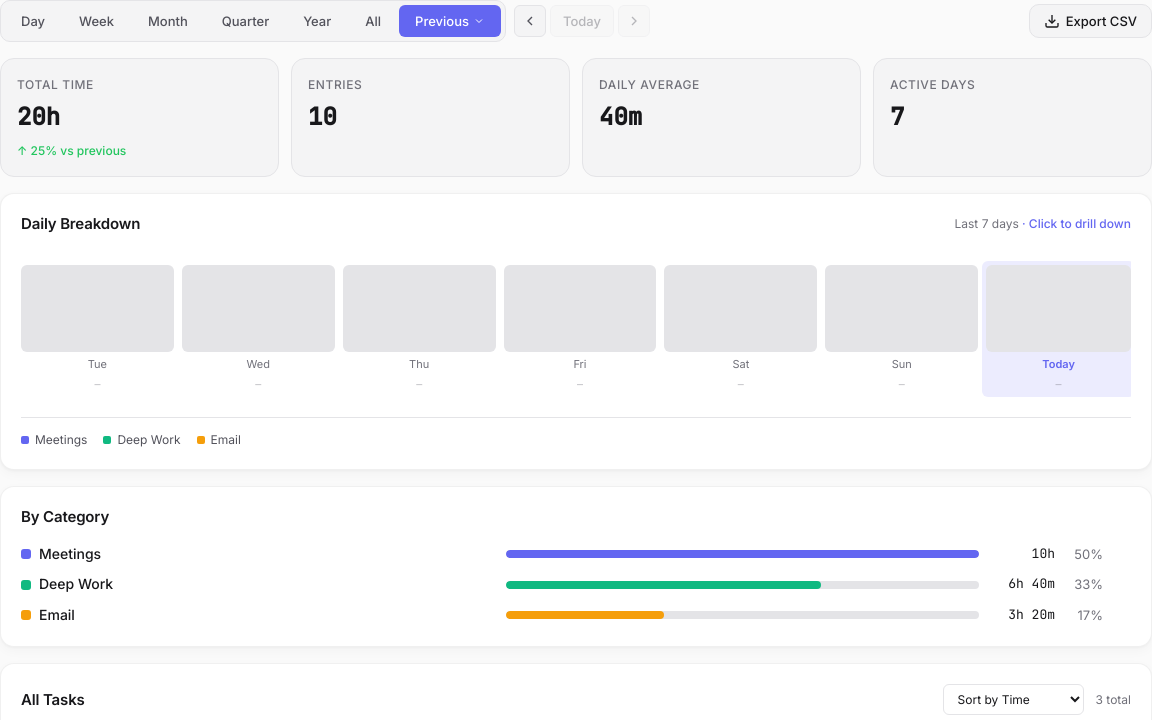
Test: Analytics › shows monthly breakdown for year view
This screenshot has width=1164, height=720.
Check: the text "Total Time" is shown, box [17, 77, 94, 92]
Click the button "Year".
click(317, 21)  # box [287, 5, 347, 37]
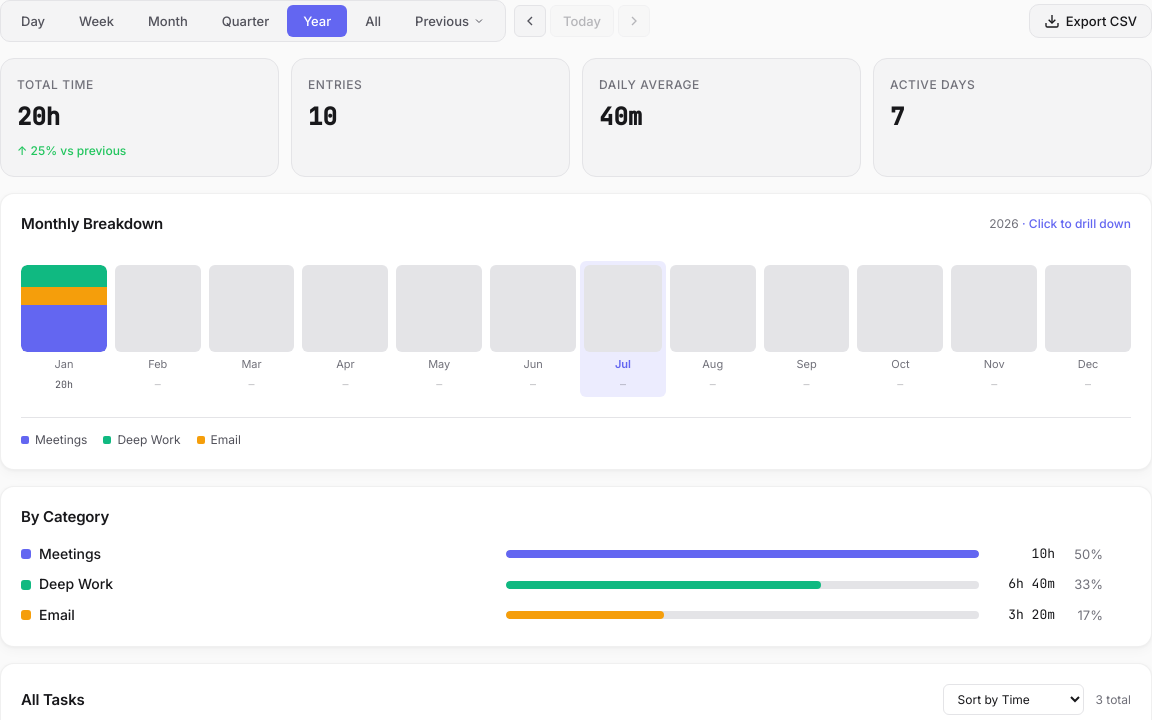
Check: the text "2026 · Click to drill down" is shown, box [989, 214, 1131, 233]
Check: the heading "Monthly Breakdown" is shown, box [21, 214, 163, 233]
